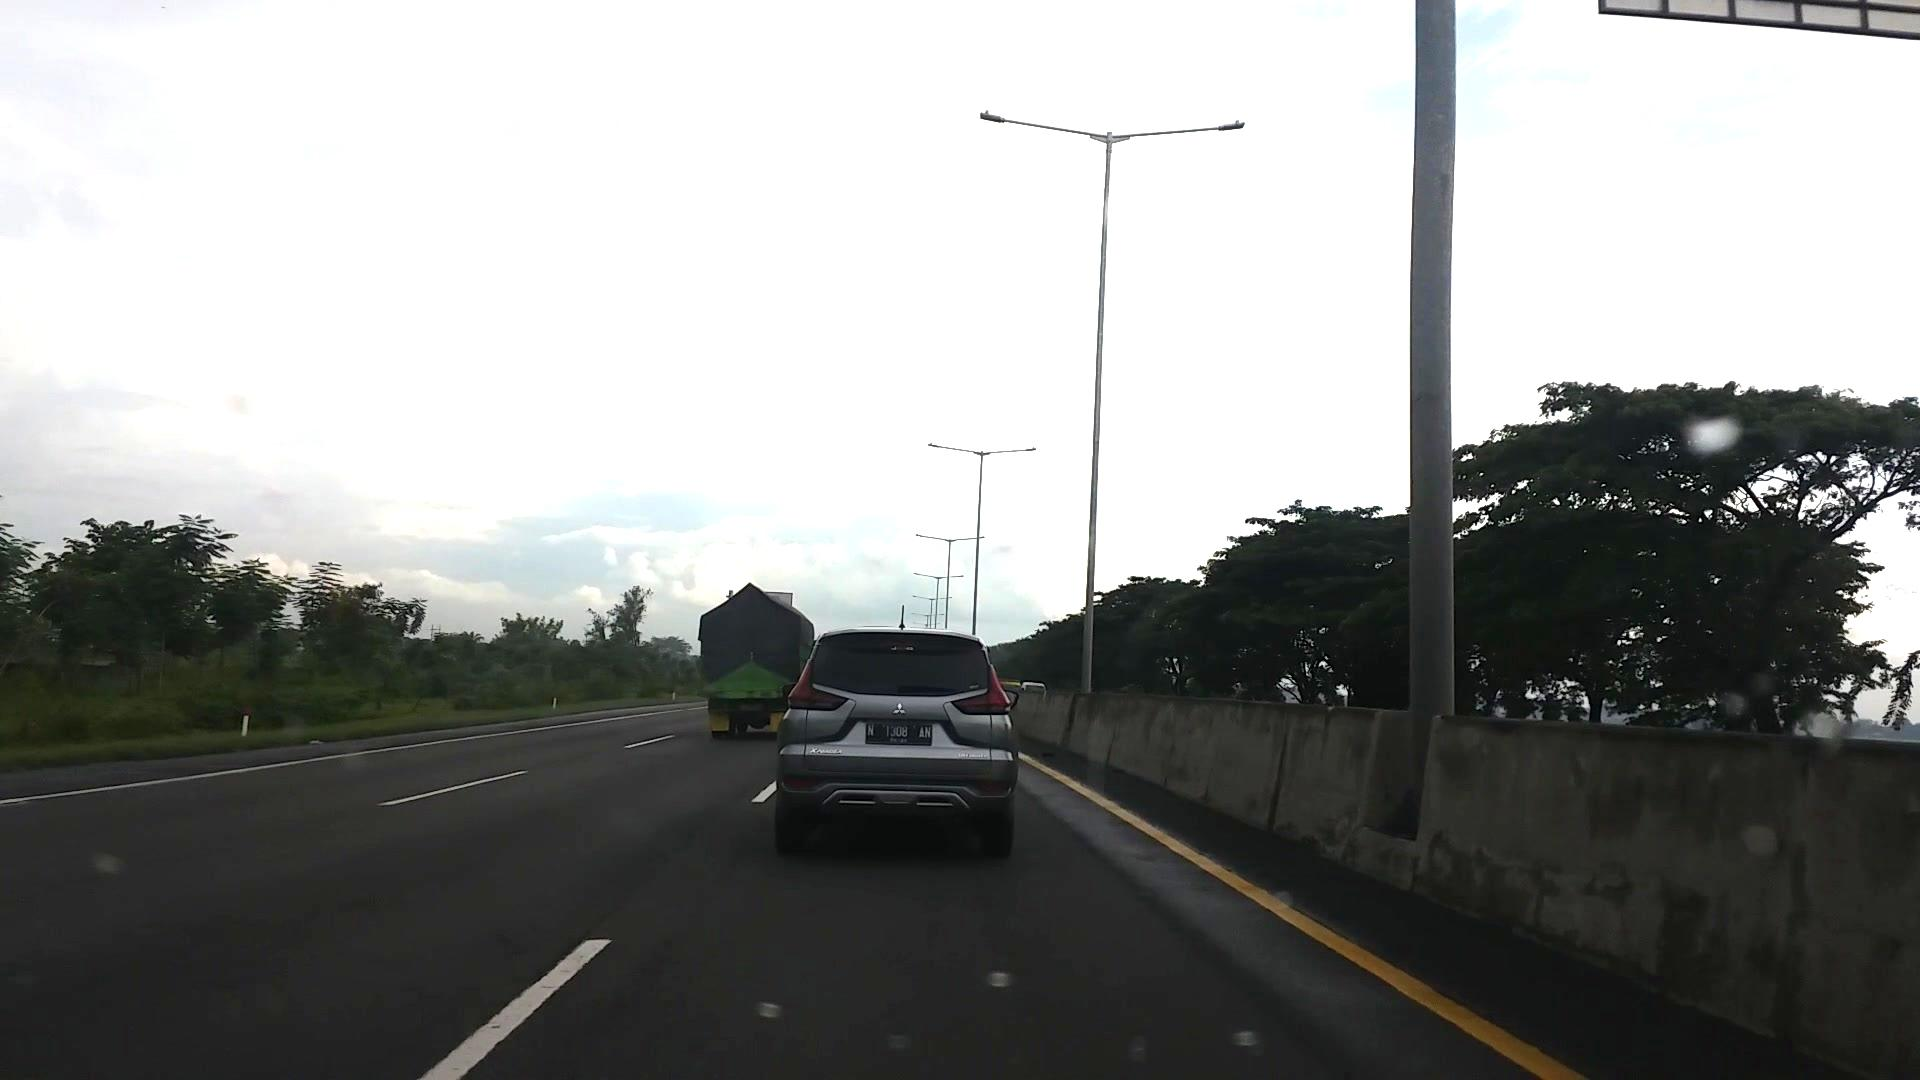plate_positive: (865, 721, 934, 746)
